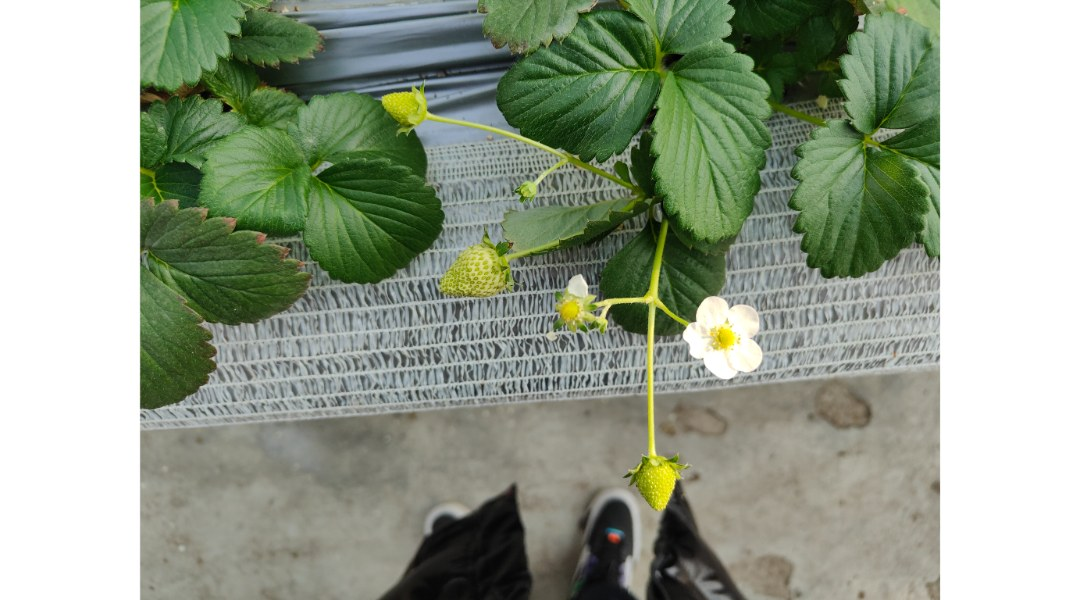berry: (427, 235, 520, 303), (618, 452, 693, 518), (550, 274, 604, 336), (379, 80, 432, 137), (510, 174, 540, 201)
flower: (682, 284, 769, 386)
strain: (428, 113, 566, 159), (642, 305, 656, 471), (642, 219, 665, 285), (584, 163, 640, 188)
